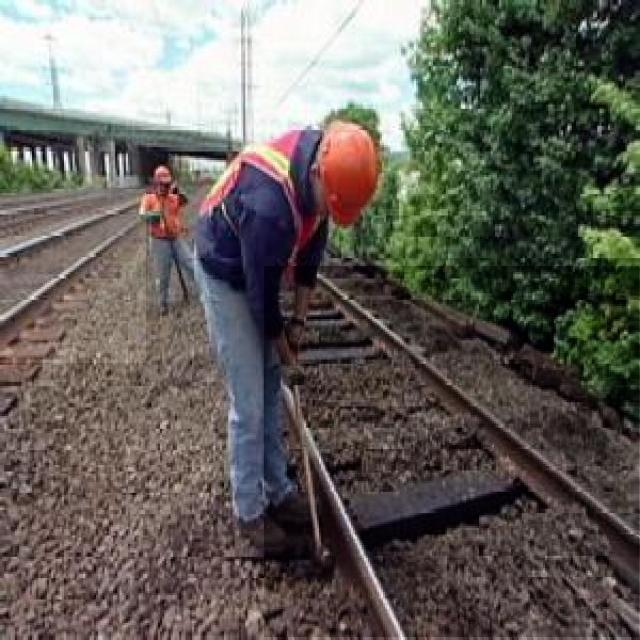rail: (266, 268, 640, 638), (1, 191, 147, 364)
